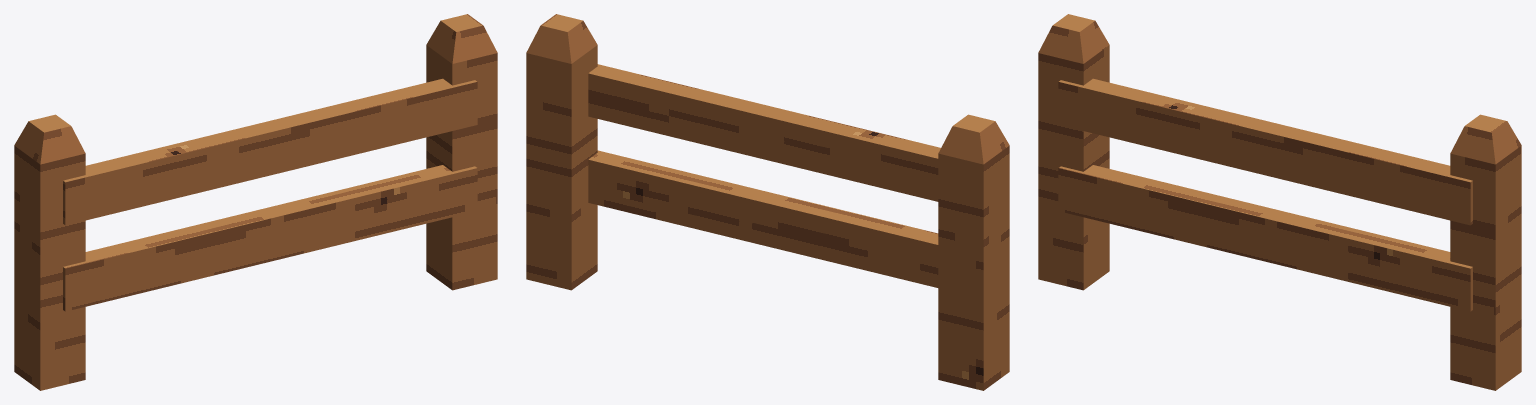
The model's file is fence_segment.glb.
3 renders of one model, left to right at view 1: azimuth 30°, elevation 25°; view 2: azimuth 150°, elevation 25°; view 3: azimuth 330°, elevation 25°, orthographic.
Parts seen in each view (by area): view 1: fence_segment; view 2: fence_segment; view 3: fence_segment.
Boxes of the visible parts, x1,y1,x2,y2 form: fence_segment: (14,14,497,390); fence_segment: (526,14,1009,390); fence_segment: (1038,14,1521,390).
Size of the model in its own units: 2.22 by 1.17 by 0.24.
1 material, 1 textured.
